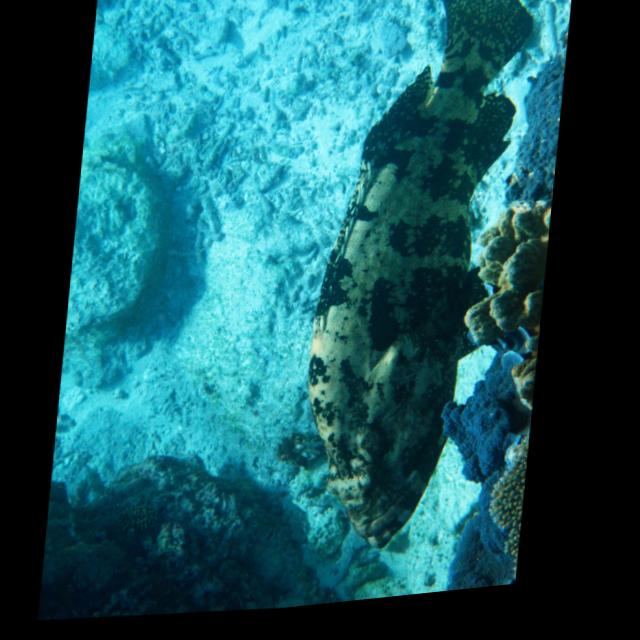Groupers: (289, 0, 540, 564)
